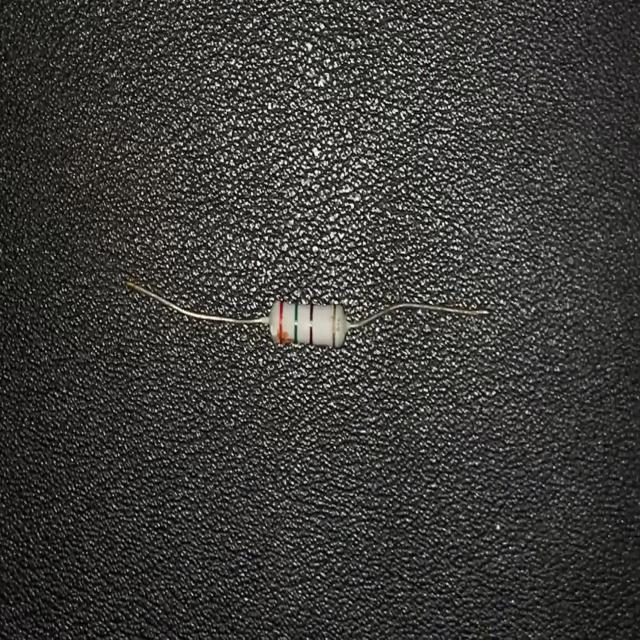burnt: (268, 329, 294, 344)
resistor: (125, 276, 490, 351)
